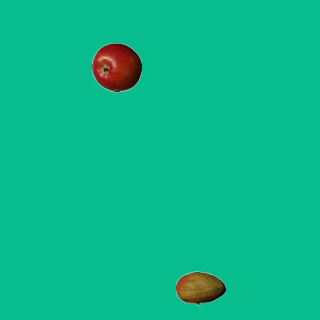Apple Braeburn: (91, 42, 141, 92)
Papaya: (175, 263, 225, 313)
